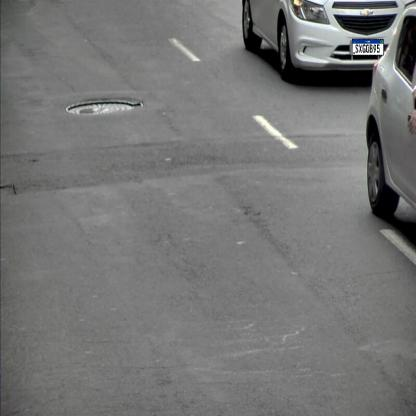PlacaM: (352, 39, 384, 55)
